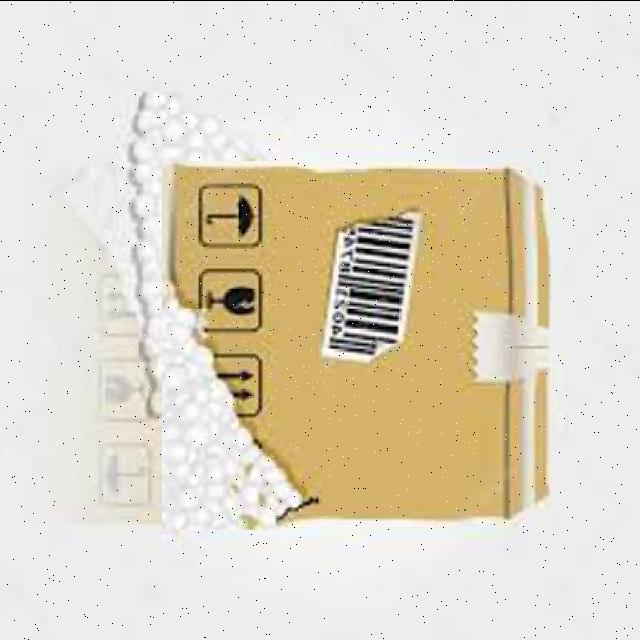defect: (162, 160, 552, 529)
